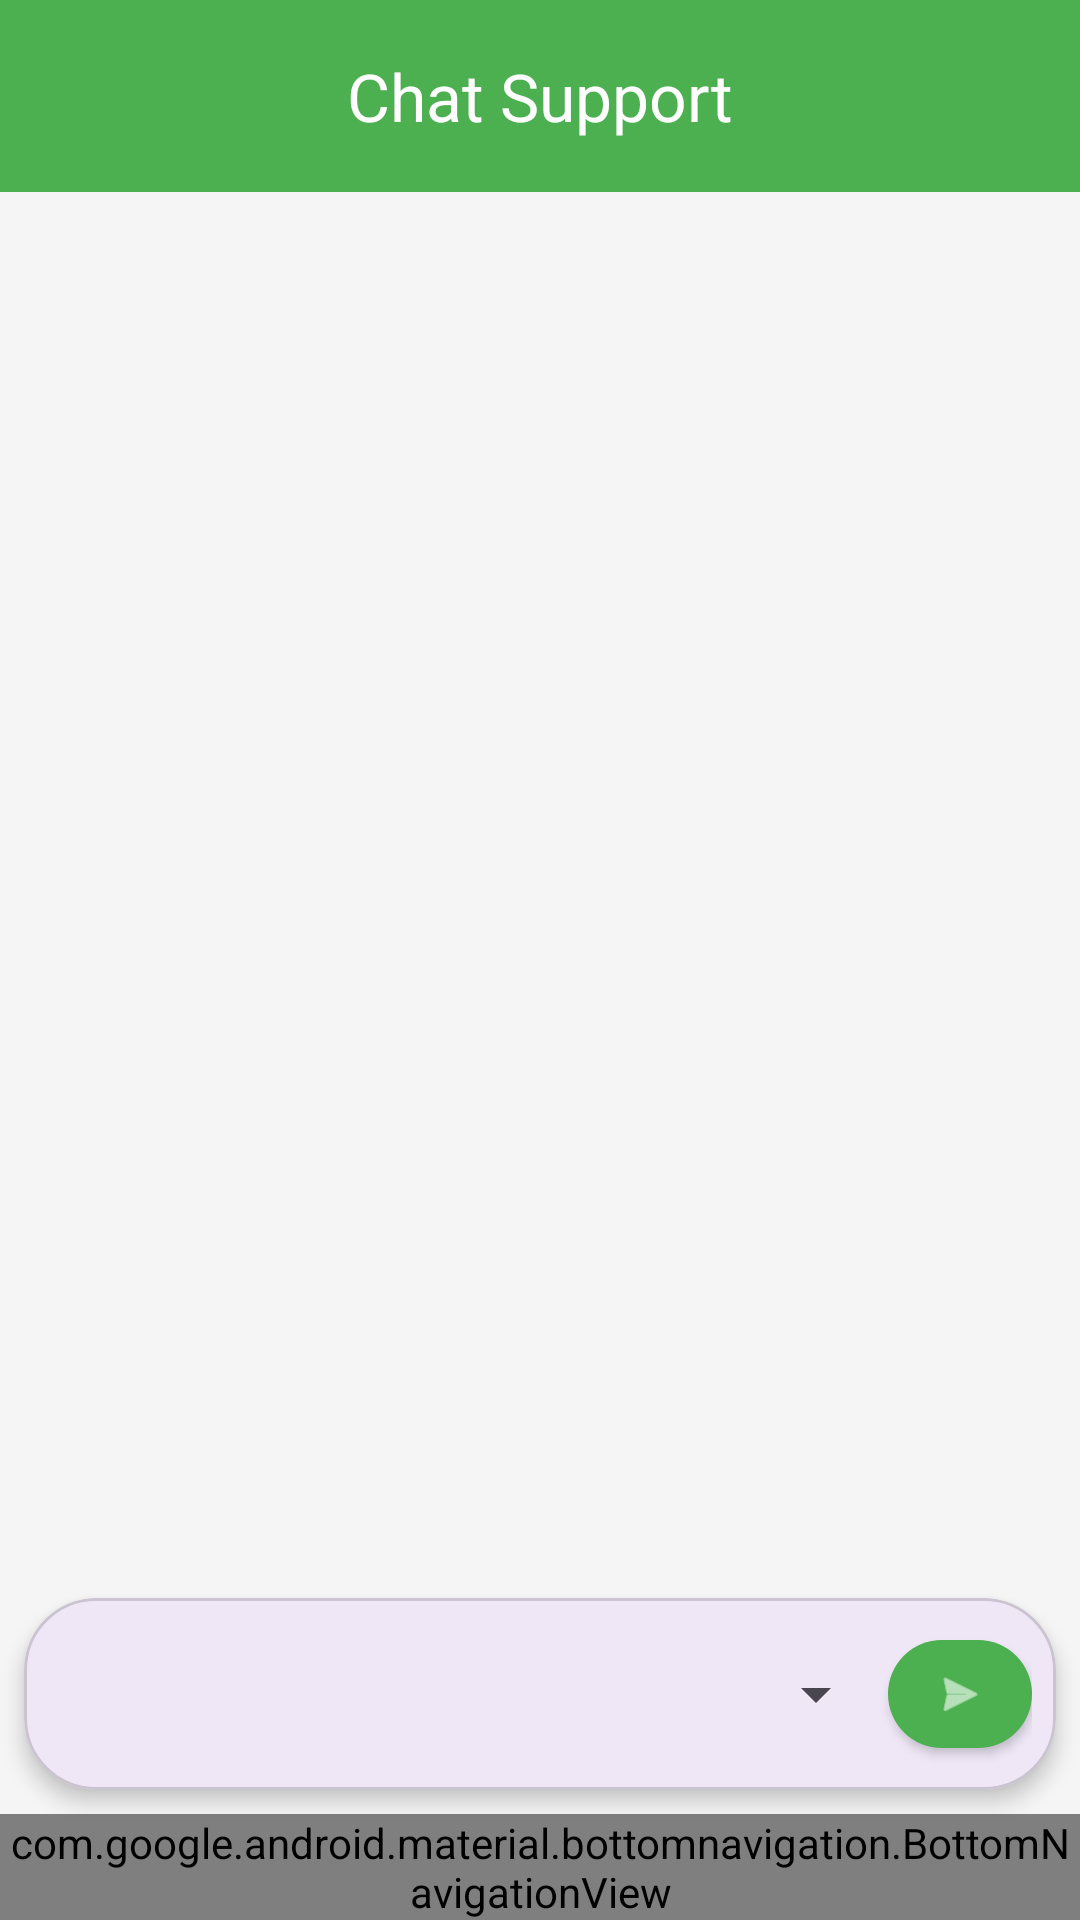

Icon click points for this 1080w x 1920h phone screenshot, format (x,y):
send: (960,1696)
